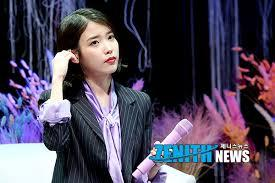earphone: (70, 52, 81, 60)
